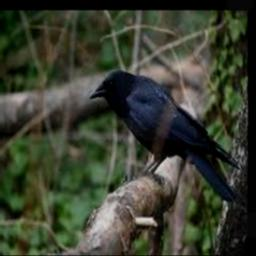Crow: (89, 69, 243, 205)
